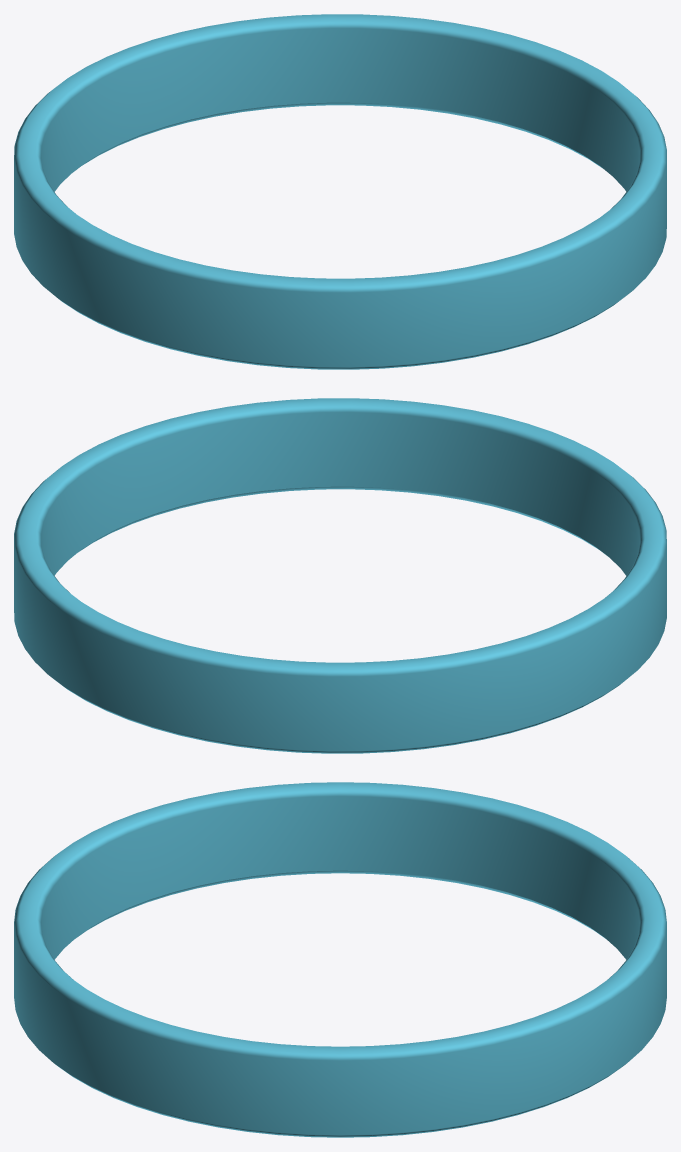
3 renders of one model, top to bottom at view 1: azimuth 30°, elevation 25°; view 2: azimuth 150°, elevation 25°; view 3: azimuth 270°, elevation 25°, orthographic.
Visible parts, largest first — view 1: seal_body; view 2: seal_body; view 3: seal_body.
Boxes of the visible parts, x1=… form: seal_body: x1=14, y1=14, x2=666, y2=369; seal_body: x1=14, y1=398, x2=666, y2=753; seal_body: x1=14, y1=782, x2=666, y2=1137.
Bounding box in the file's own units: 0.0762 × 0.0108 × 0.0762.
